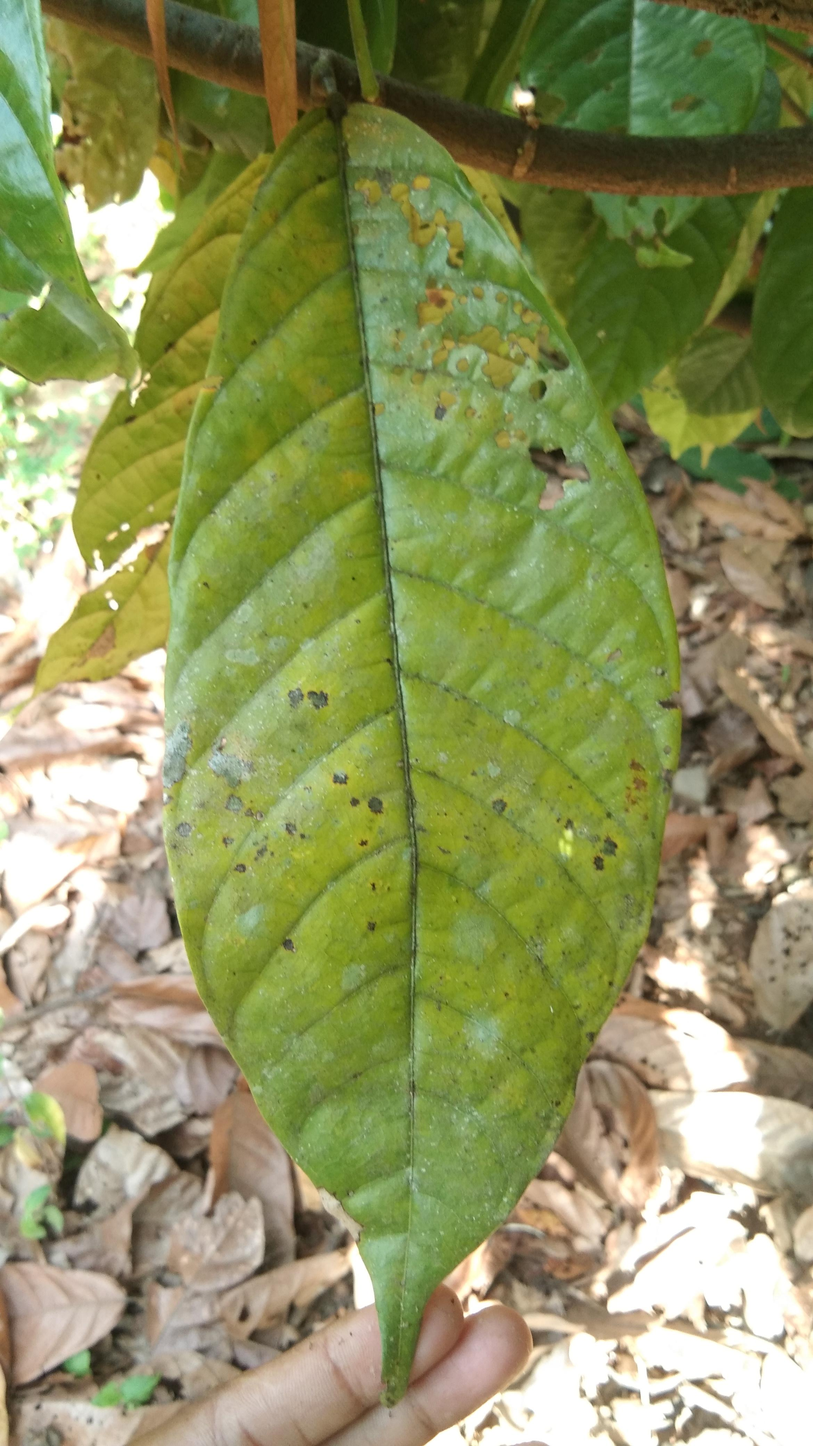deficiencia_potasio: (140, 52, 708, 1420)
